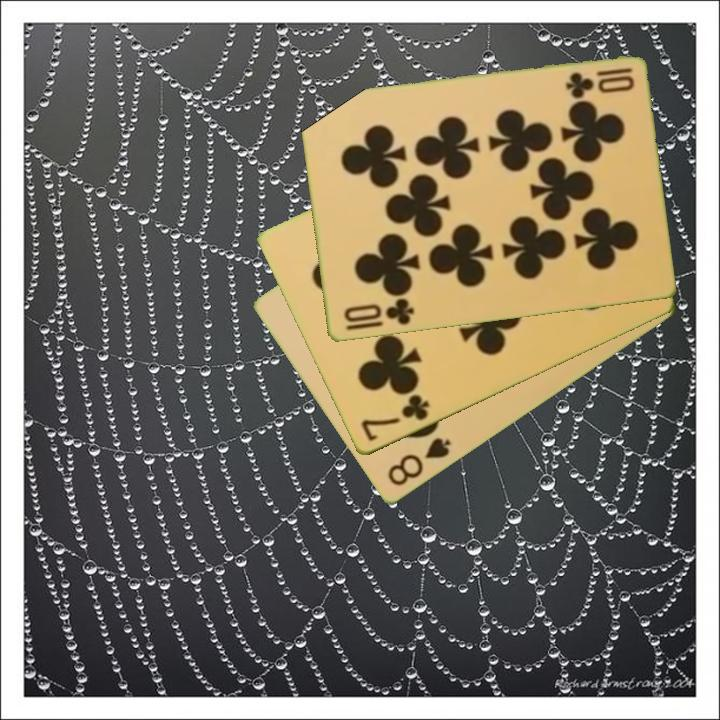10c: (562, 65, 637, 100), (340, 295, 417, 329)
7c: (357, 391, 432, 445)
8s: (384, 434, 454, 490)
